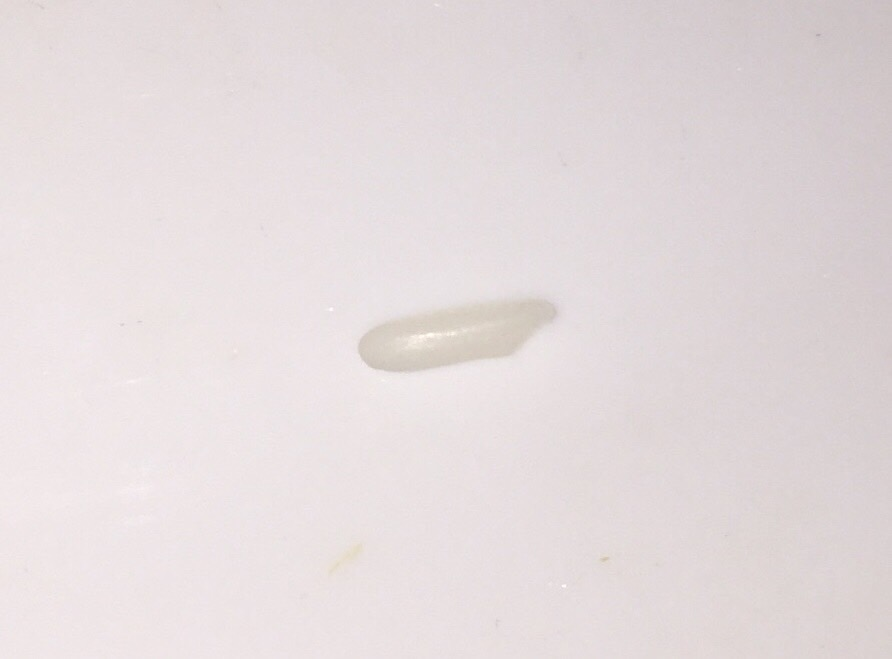Gao Ngoc Troi: (356, 290, 566, 374)
